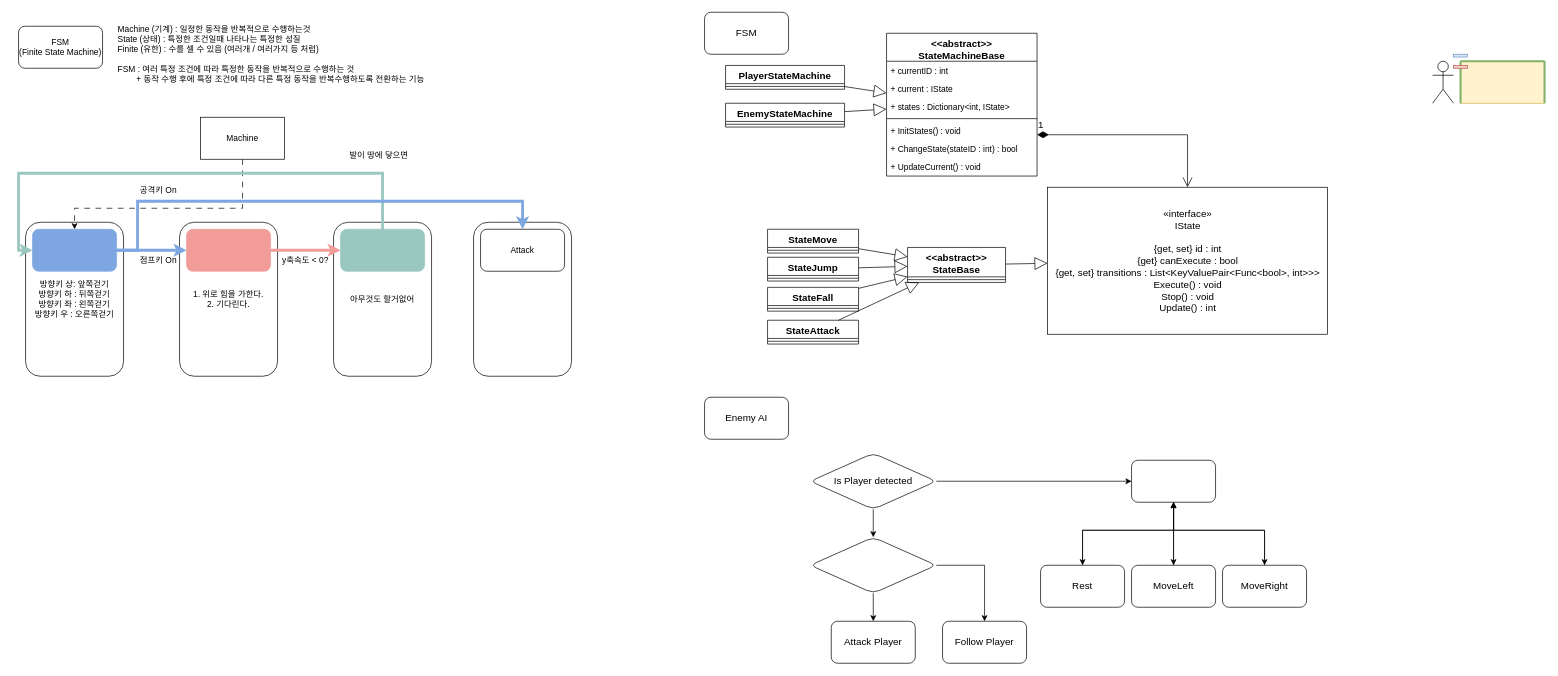
This 1558x676 diagram has some shape labels left out. Each missing label, with the centre of its shape:
Actor: the point at 1443,82
Fall: the point at 382,250
Is Player in attack range: the point at 873,565
Jump: the point at 228,250
Move: the point at 74,250
Think: the point at 1173,481
